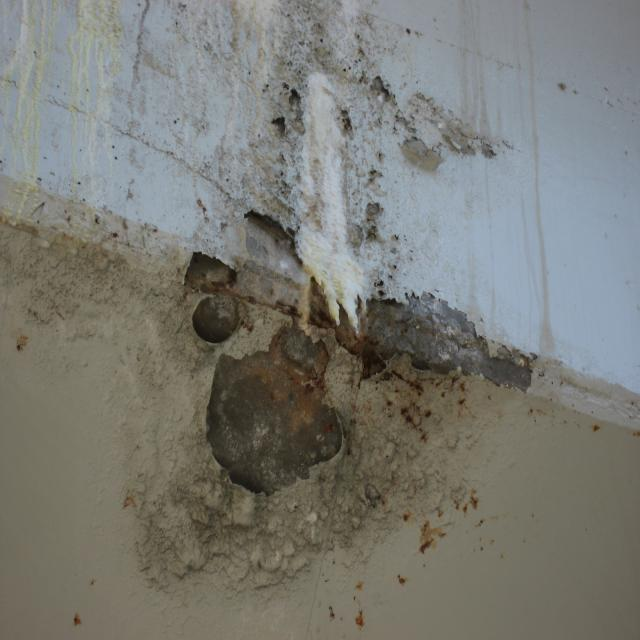corrosion: (166, 245, 546, 608), (6, 326, 47, 363), (68, 608, 88, 636)
